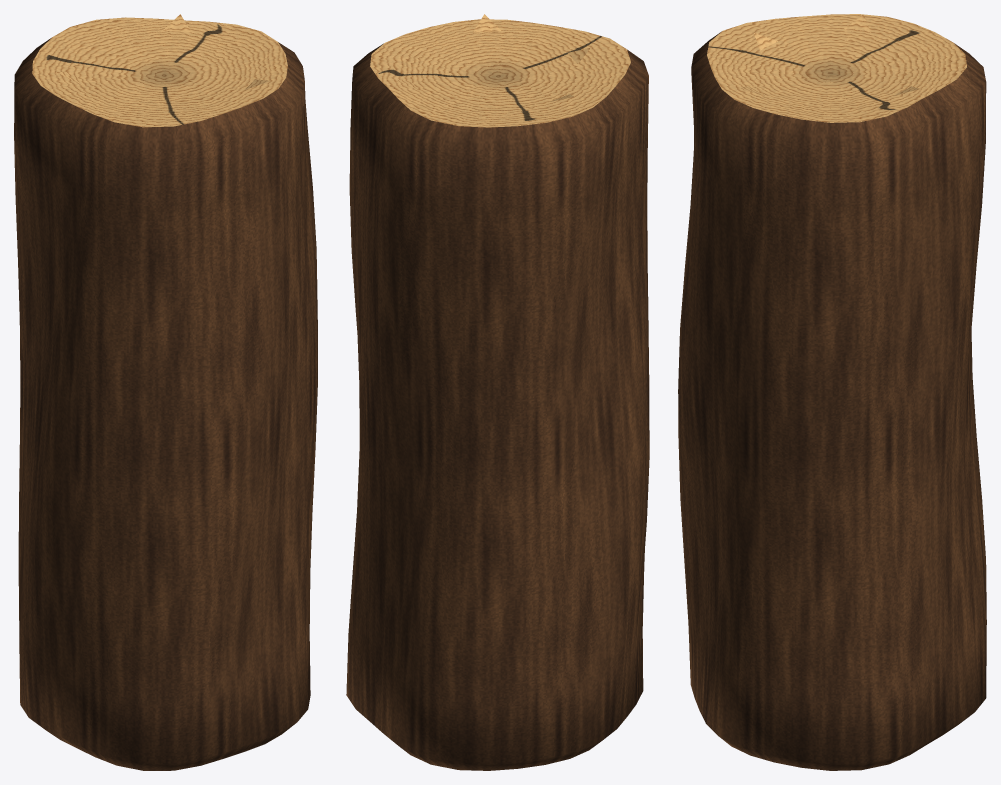
File: log_y.glb
3 views of the same model, side by side, from view 1: azimuth 30°, elevation 25°; view 2: azimuth 150°, elevation 25°; view 3: azimuth 270°, elevation 25° (orthographic).
Parts seen in each view (by area): view 1: log_y; view 2: log_y; view 3: log_y.
Part boxes in pixels (bbox=[...]): log_y: bbox=[14, 14, 317, 770]; log_y: bbox=[346, 14, 649, 770]; log_y: bbox=[678, 14, 986, 770].
Bounding box in the file's own units: 0.3808 × 0.902 × 0.3812.
2 materials, 2 textured.
